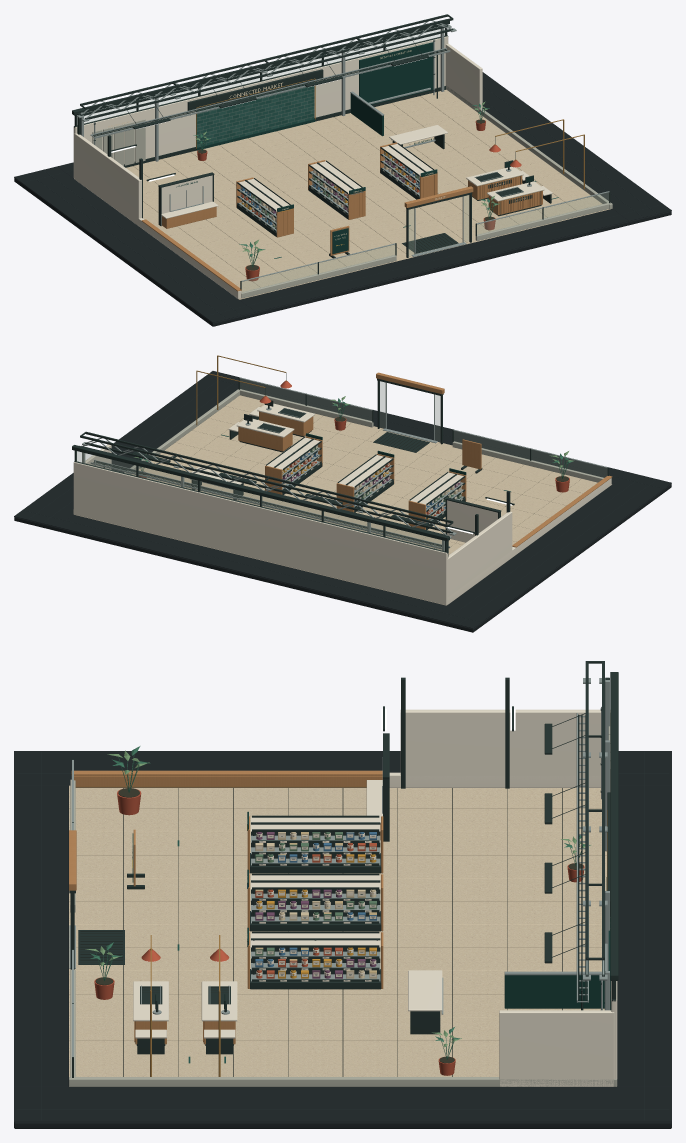
The model's file is enterprise-store.studio.glb.
3 renders of one model, top to bottom at view 1: azimuth 30°, elevation 25°; view 2: azimuth 150°, elevation 25°; view 3: azimuth 270°, elevation 25°, orthographic. The views are drawn at different scales.
Parts seen in each view (by area): view 1: FloorShell_Warmlimestonetile, FloorShell_Exteriorcharcoalpaving, FloorShell_Limestonetonevariation, CutawayWalls_Warmmineralplaster, RearElevation_Warmmineralplaster, LightingRig_Graphitearchitecturalsteel, RearElevation_Spruceglazedceramic, RearElevation_Graphitearchitecturalsteel, RearElevation_Slatenavypanels, Storefront_Architecturalclearblueglazing, RetailAisles_Graphitearchitecturalsteel, Storefront_Boardformedconcrete (+23 smaller); view 2: FloorShell_Exteriorcharcoalpaving, RearElevation_Warmmineralplaster, FloorShell_Warmlimestonetile, FloorShell_Limestonetonevariation, CutawayWalls_Warmmineralplaster, LightingRig_Graphitearchitecturalsteel, RearElevation_Architecturalclearblueglazing, Storefront_Architecturalclearblueglazing, RearElevation_Graphitearchitecturalsteel, RetailAisles_Graphitearchitecturalsteel, Storefront_Boardformedconcrete, RetailAisles_Paleterrazzocountertop (+18 smaller); view 3: FloorShell_Warmlimestonetile, FloorShell_Exteriorcharcoalpaving, CutawayWalls_Warmmineralplaster, FloorShell_Limestonetonevariation, RetailAisles_Graphitearchitecturalsteel, CutawayWalls_Naturalsmokedoak, CutawayWalls_Boardformedconcrete, RetailAisles_Paleterrazzocountertop, LightingRig_Graphitearchitecturalsteel, RetailAisles_Satinstainlesssteel, RetailAisles_Uncoatedproductpaper, RearElevation_Graphitearchitecturalsteel (+21 smaller).
Part boxes in pixels (bbox=[...]): FloorShell_Warmlimestonetile: bbox=[126, 89, 610, 299]; FloorShell_Exteriorcharcoalpaving: bbox=[14, 72, 671, 326]; FloorShell_Limestonetonevariation: bbox=[169, 103, 592, 292]; CutawayWalls_Warmmineralplaster: bbox=[74, 43, 482, 298]; RearElevation_Warmmineralplaster: bbox=[73, 36, 448, 178]; LightingRig_Graphitearchitecturalsteel: bbox=[80, 14, 515, 181]; RearElevation_Spruceglazedceramic: bbox=[196, 82, 314, 147]; RearElevation_Graphitearchitecturalsteel: bbox=[72, 19, 449, 167]; RearElevation_Slatenavypanels: bbox=[196, 42, 433, 150]; Storefront_Architecturalclearblueglazing: bbox=[242, 192, 608, 292]; RetailAisles_Graphitearchitecturalsteel: bbox=[237, 143, 434, 236]; Storefront_Boardformedconcrete: bbox=[241, 202, 609, 298]; FloorShell_Exteriorcharcoalpaving: bbox=[14, 371, 671, 632]; RearElevation_Warmmineralplaster: bbox=[73, 462, 448, 605]; FloorShell_Warmlimestonetile: bbox=[74, 395, 611, 598]; FloorShell_Limestonetonevariation: bbox=[132, 403, 581, 605]; CutawayWalls_Warmmineralplaster: bbox=[85, 444, 611, 604]; LightingRig_Graphitearchitecturalsteel: bbox=[80, 373, 514, 535]; RearElevation_Architecturalclearblueglazing: bbox=[76, 451, 444, 551]; Storefront_Architecturalclearblueglazing: bbox=[240, 379, 607, 477]; RearElevation_Graphitearchitecturalsteel: bbox=[72, 445, 449, 553]; RetailAisles_Graphitearchitecturalsteel: bbox=[266, 436, 465, 529]; Storefront_Boardformedconcrete: bbox=[239, 389, 603, 482]; RetailAisles_Paleterrazzocountertop: bbox=[267, 437, 463, 505]; FloorShell_Warmlimestonetile: bbox=[69, 785, 606, 1076]; FloorShell_Exteriorcharcoalpaving: bbox=[14, 751, 671, 1128]; CutawayWalls_Warmmineralplaster: bbox=[71, 709, 614, 1086]; FloorShell_Limestonetonevariation: bbox=[69, 788, 601, 1076]; RetailAisles_Graphitearchitecturalsteel: bbox=[250, 815, 381, 989]; CutawayWalls_Naturalsmokedoak: bbox=[71, 770, 382, 787]; CutawayWalls_Boardformedconcrete: bbox=[69, 1077, 617, 1086]; RetailAisles_Paleterrazzocountertop: bbox=[251, 817, 380, 947]; LightingRig_Graphitearchitecturalsteel: bbox=[383, 661, 604, 976]; RetailAisles_Satinstainlesssteel: bbox=[251, 835, 380, 981]; RetailAisles_Uncoatedproductpaper: bbox=[256, 832, 376, 981]; RearElevation_Graphitearchitecturalsteel: bbox=[607, 672, 618, 1010].
Size of the model in its own units: 32 by 5.43 by 24.
33 materials, 4 textured.
